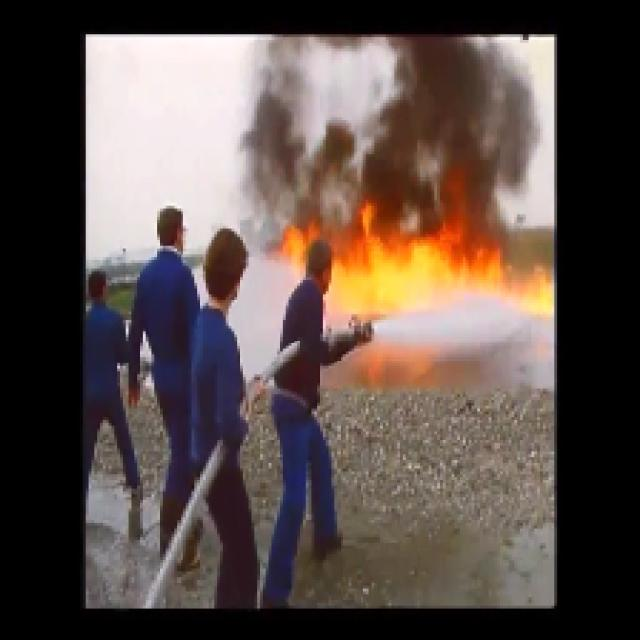fire: (333, 246, 518, 294)
smoke: (395, 34, 500, 221)
